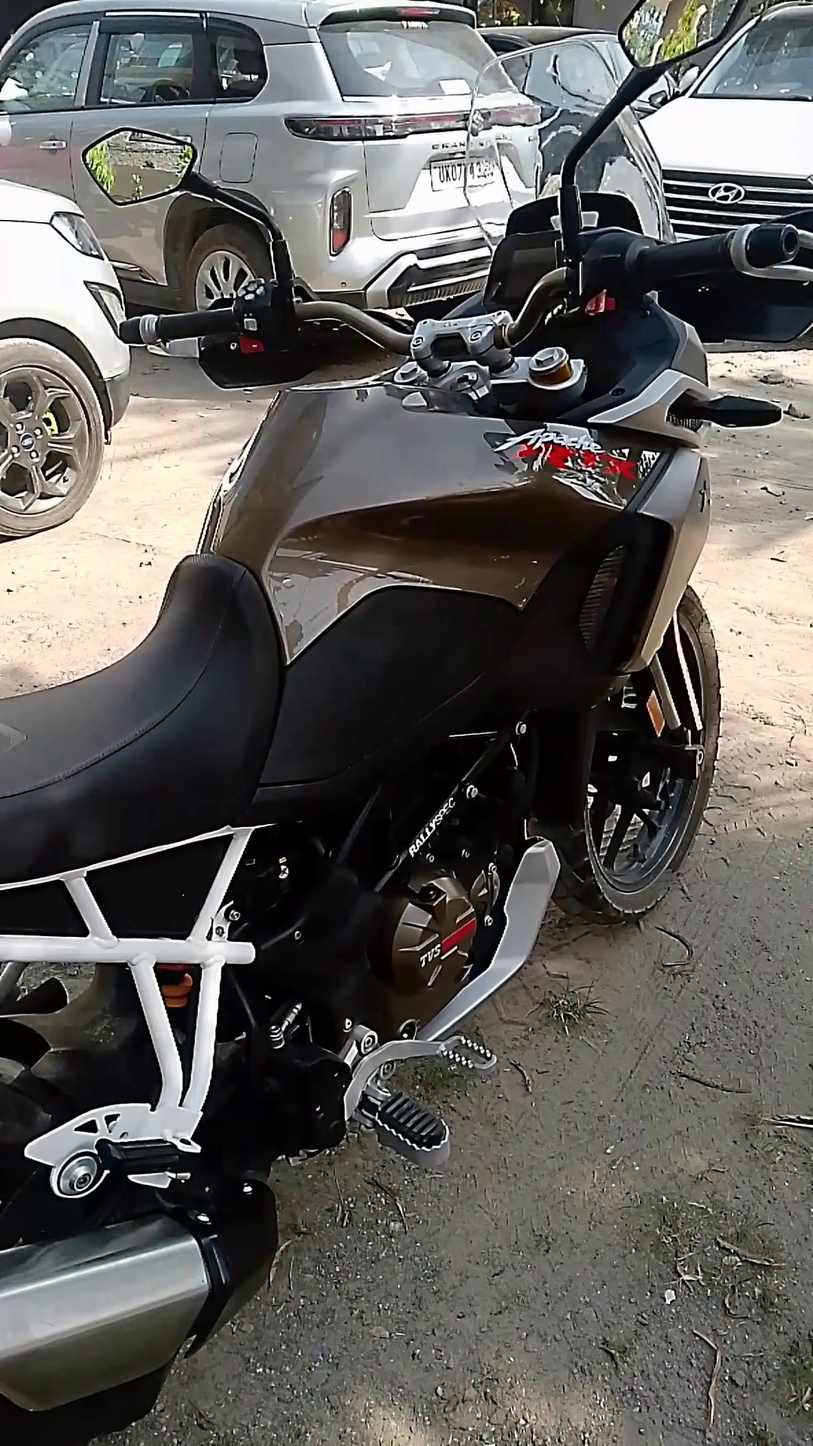bike-engine: (379, 848, 501, 1044)
bike-engine-level: (392, 1009, 420, 1040)
bike-oil-cap: (454, 963, 476, 981)
